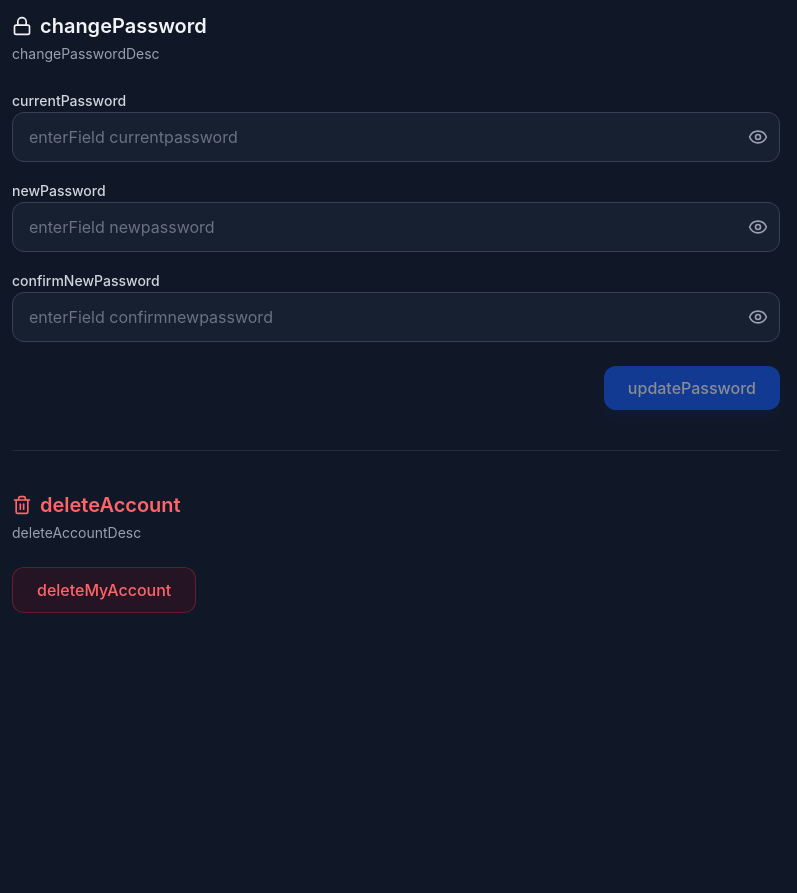
SecuritySettings — delete account › clicking deleteMyAccount expands the confirmation panel
Click the button "deleteMyAccount". click: (104, 590)
box: [12,567,196,613]
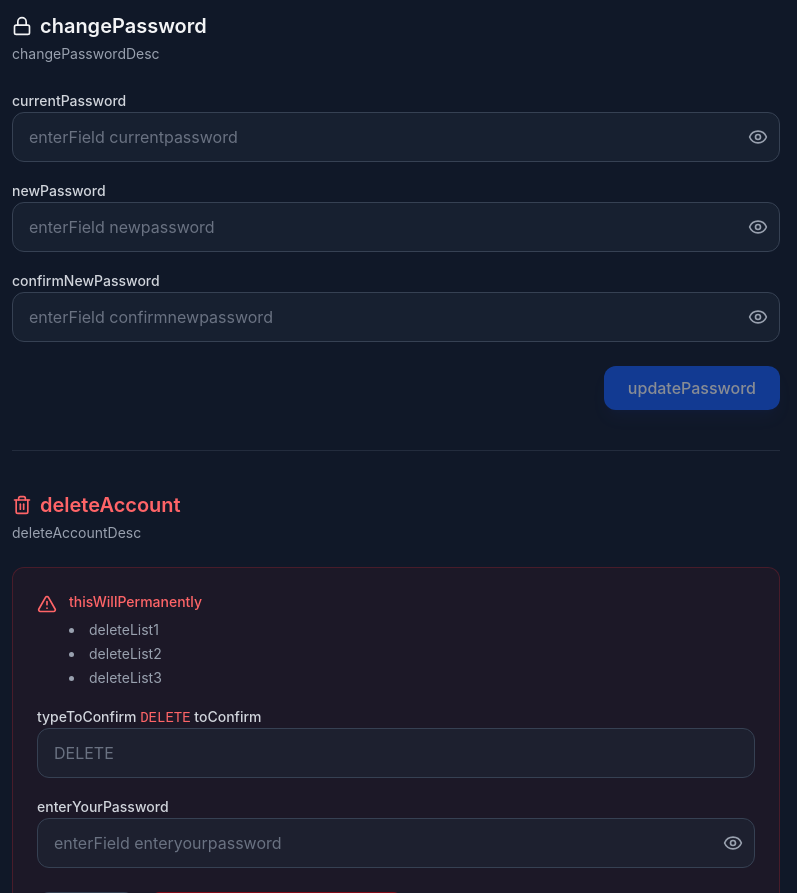
Expected: the text "thisWillPermanently" is shown, [69,592,202,612]
Expected: the field with placeholder "DELETE" is shown, [37,728,755,778]
